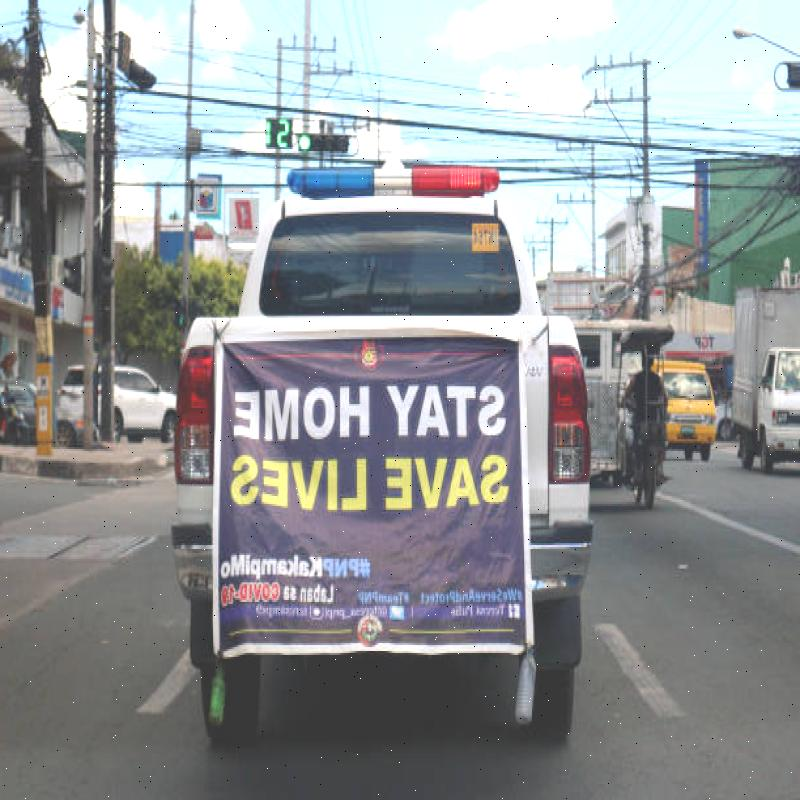AmbulanceSiren: (274, 155, 515, 221)
